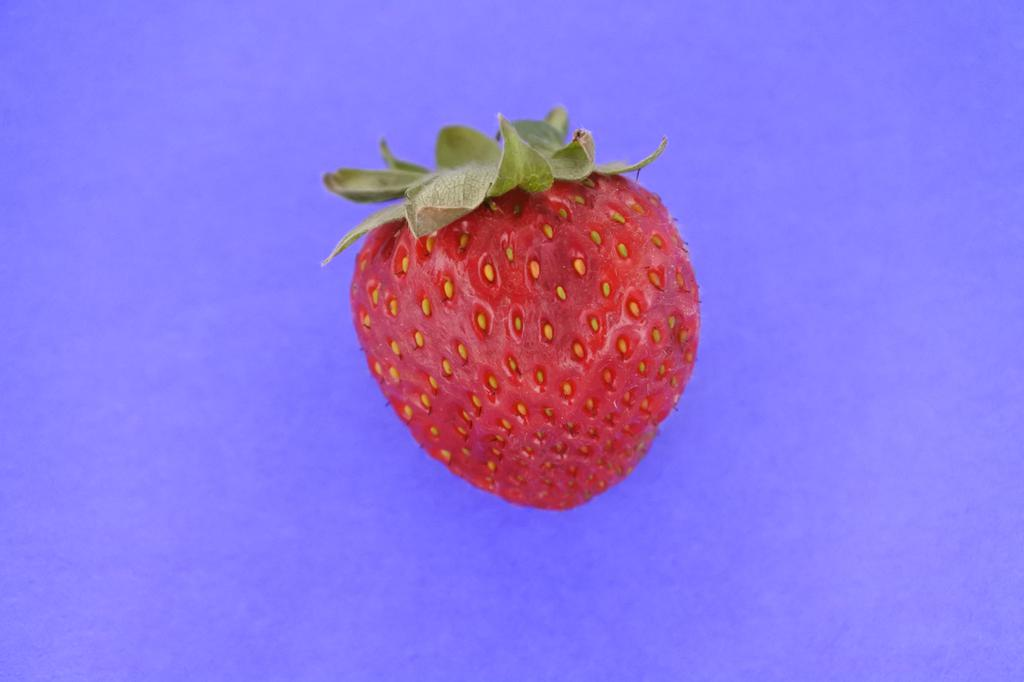red strawberry: (323, 105, 704, 514)
